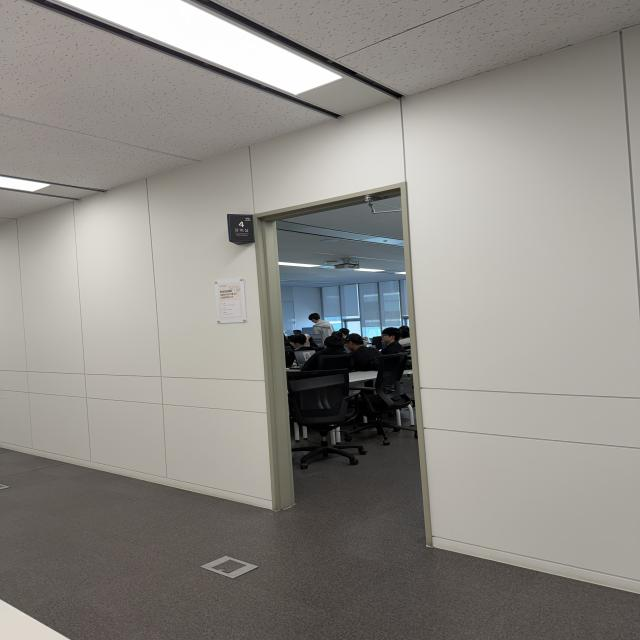sign: (228, 214, 254, 242)
